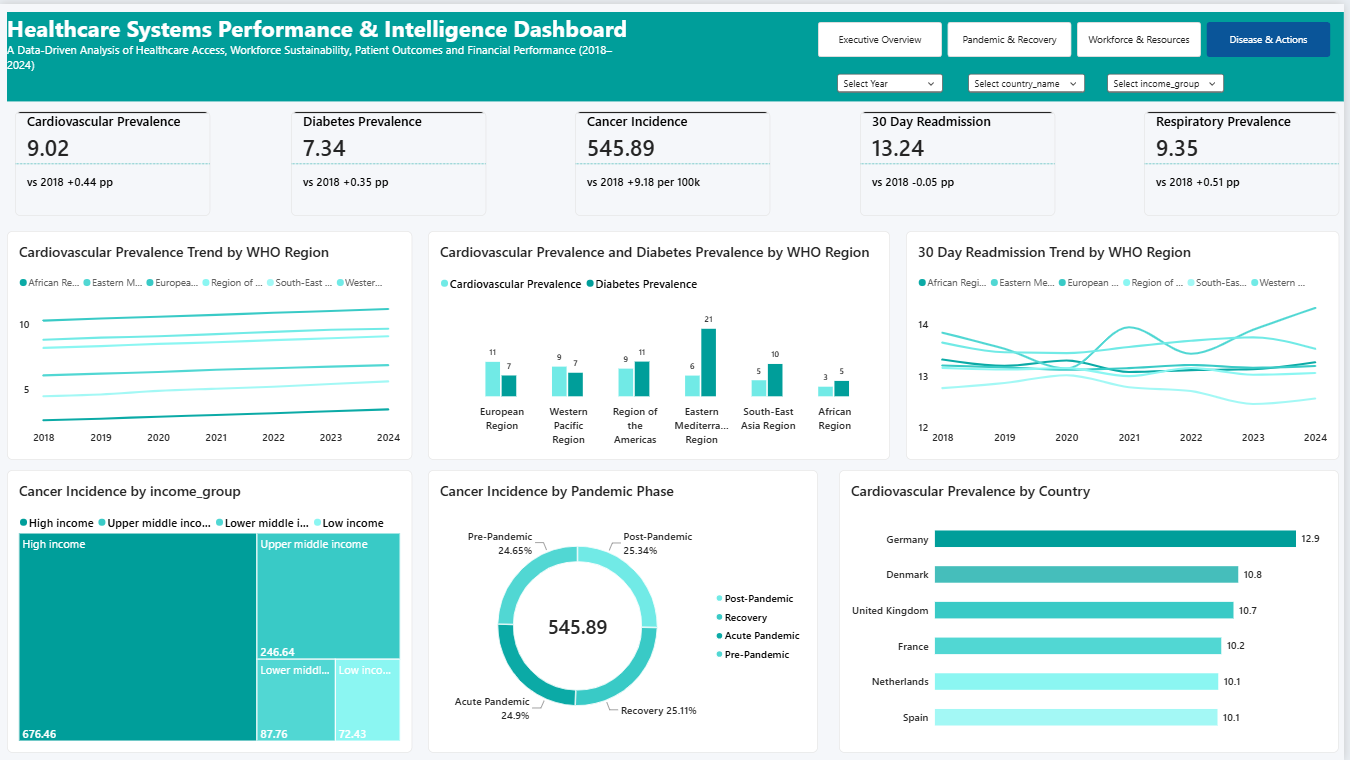

This screenshot's page, from the dashboard's own definition file:
{"tool":"powerbi","page":{"name":"Disease & Actions","canvas":[1920,1080],"ordinal":3},"visuals":[{"type":"shape","box":[10.5,11.9,1909.8,127.8],"z":0},{"type":"cardVisual","fields":{"Data":["Measure (2).Diabetes Prevalence"]},"box":[416.1,152.9,279.2,150.1],"z":1000},{"type":"cardVisual","fields":{"Data":["Measure (2).Cancer Incidence"]},"box":[822.1,152.9,279.2,150.1],"z":2000},{"type":"cardVisual","fields":{"Data":["Measure (2).30 Day Readmission"]},"box":[1228.2,152.9,279.2,150.1],"z":3000},{"type":"cardVisual","fields":{"Data":["Measure (2).Respiratory Illness Prevalence"]},"box":[1634.3,152.9,279.2,150.1],"z":4000},{"type":"lineChart","title":"Cardiovascular Prevalence Trend by WHO Region","fields":{"Category":["dim_date.quarter_start_date.Variation.Date Hierarchy.Year"],"Series":["dim_country.who_region"],"Y":["Measure (2).Cardiovascular Prevalence"]},"box":[10,324.3,578.6,327.1],"z":5000},{"type":"cardVisual","fields":{"Data":["Measure (2).Cardiovascular Prevalence"]},"box":[21.4,152.9,279.2,150.1],"z":6000},{"type":"treemap","fields":{"Group":["dim_country.income_group"],"Values":["Measure (2).Cancer Incidence"]},"box":[10,665.7,578.6,404.3],"z":7000},{"type":"clusteredColumnChart","title":"Cardiovascular Prevalence and Diabetes Prevalence by WHO Region","fields":{"Category":["dim_country.who_region"],"Y":["Measure (2).Cardiovascular Prevalence","Measure (2).Diabetes Prevalence"]},"box":[611.4,324.3,660,327.1],"z":8000},{"type":"donutChart","title":"Cancer Incidence by Pandemic Phase","fields":{"Category":["dim_date.pandemic_phase"],"Y":["Measure (2).Cancer Incidence"]},"box":[611.4,665.7,557.1,404.3],"z":9000},{"type":"lineChart","title":"30 Day Readmission Trend by WHO Region","fields":{"Category":["dim_date.quarter_start_date.Variation.Date Hierarchy.Year"],"Series":["dim_country.who_region"],"Y":["Measure (2).30 Day Readmission"]},"box":[1294.3,324.3,618.6,327.1],"z":10000},{"type":"clusteredBarChart","title":"Cardiovascular Prevalence by Country","fields":{"Category":["dim_country.country_name"],"Y":["Measure (2).Cardiovascular Prevalence"]},"box":[1198.6,665.7,714.3,404.3],"z":11000},{"type":"textbox","box":[10,11.4,892.9,128.6],"z":12000},{"type":"pageNavigator","box":[1168.6,25.7,732.9,50],"z":13000},{"type":"listSlicer","fields":{"Values":["dim_date.quarter_end_date.Variation.Date Hierarchy.Year"]},"box":[1180,85.7,182.9,52.9],"z":13001},{"type":"listSlicer","fields":{"Values":["dim_country.country_name"]},"box":[1367.1,85.7,198.6,52.9],"z":13002},{"type":"listSlicer","fields":{"Values":["dim_country.income_group"]},"box":[1565.7,85.7,198.6,52.9],"z":13003}]}

Visuals, with their boxes in screenshot pixels (x1, y1, x2, y2), scaled from the page's 1920x1080 canvas onto the 1350x760 screenshot:
shape: locate(7, 8, 1349, 98)
cardVisual - Measure (2).Diabetes Prevalence: locate(293, 108, 489, 213)
cardVisual - Measure (2).Cancer Incidence: locate(578, 108, 774, 213)
cardVisual - Measure (2).30 Day Readmission: locate(864, 108, 1060, 213)
cardVisual - Measure (2).Respiratory Illness Prevalence: locate(1149, 108, 1345, 213)
"Cardiovascular Prevalence Trend by WHO Region" lineChart: locate(7, 228, 414, 458)
cardVisual - Measure (2).Cardiovascular Prevalence: locate(15, 108, 211, 213)
treemap - dim_country.income_group x Measure (2).Cancer Incidence: locate(7, 468, 414, 753)
"Cardiovascular Prevalence and Diabetes Prevalence by WHO Region" clusteredColumnChart: locate(430, 228, 894, 458)
"Cancer Incidence by Pandemic Phase" donutChart: locate(430, 468, 822, 753)
"30 Day Readmission Trend by WHO Region" lineChart: locate(910, 228, 1345, 458)
"Cardiovascular Prevalence by Country" clusteredBarChart: locate(843, 468, 1345, 753)
textbox: locate(7, 8, 635, 99)
pageNavigator: locate(822, 18, 1337, 53)
listSlicer - dim_date.quarter_end_date.Variation.Date Hierarchy.Year: locate(830, 60, 958, 98)
listSlicer - dim_country.country_name: locate(961, 60, 1101, 98)
listSlicer - dim_country.income_group: locate(1101, 60, 1241, 98)
